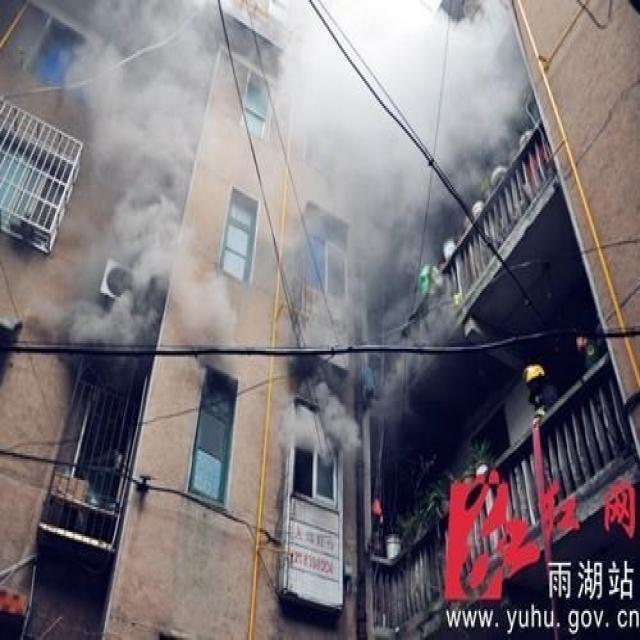Smoke: (24, 2, 532, 470)
